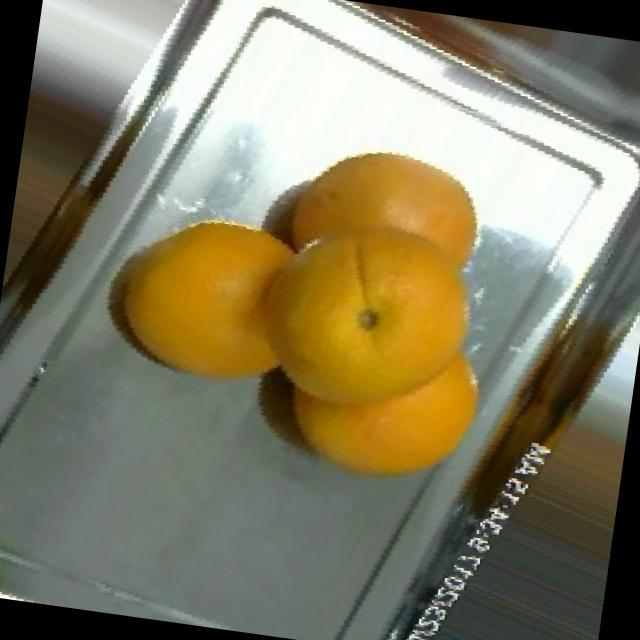Fruit: (69, 184, 282, 408)
